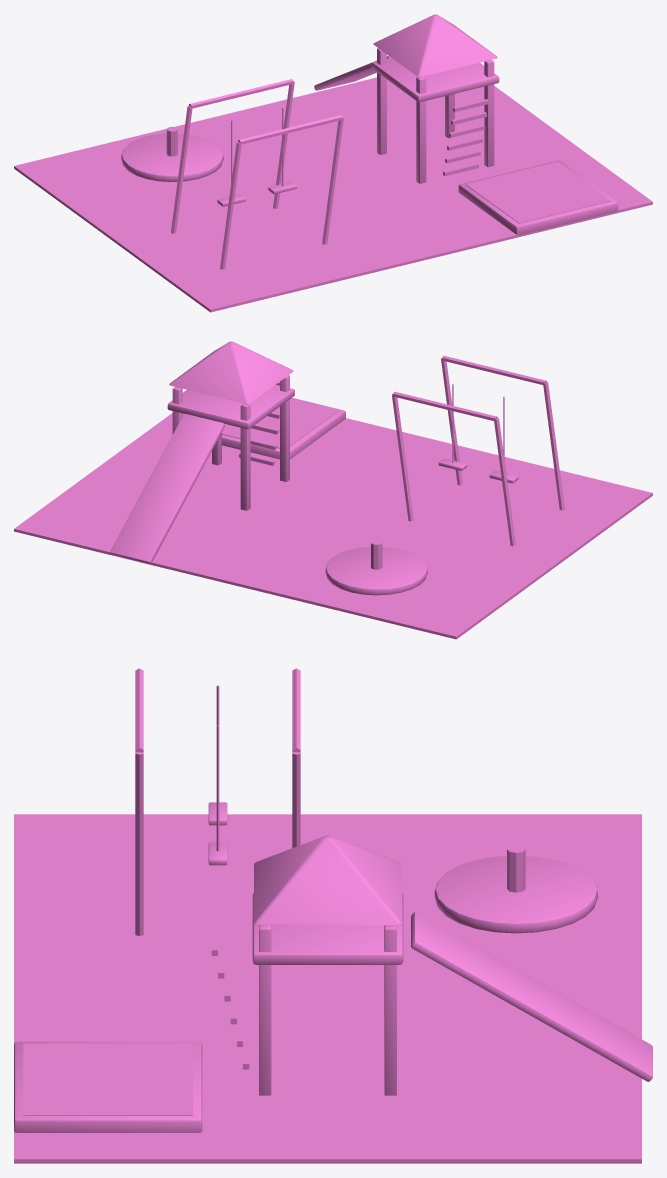
File: Suburbs_Playground.fbx
3 renders of one model, top to bottom at view 1: azimuth 30°, elevation 25°; view 2: azimuth 150°, elevation 25°; view 3: azimuth 270°, elevation 25°, orthographic. The views are drawn at different scales.
Visible parts, largest first — view 1: Playground; view 2: Playground; view 3: Playground.
Part boxes in pixels (x1,y1,x2,y2): Playground: (14,14,652,312); Playground: (14,341,652,639); Playground: (14,668,652,1163).
Bounding box in the file's own units: 26 × 8.22 × 20.36.
Materials: 1 (1 with a texture image).
